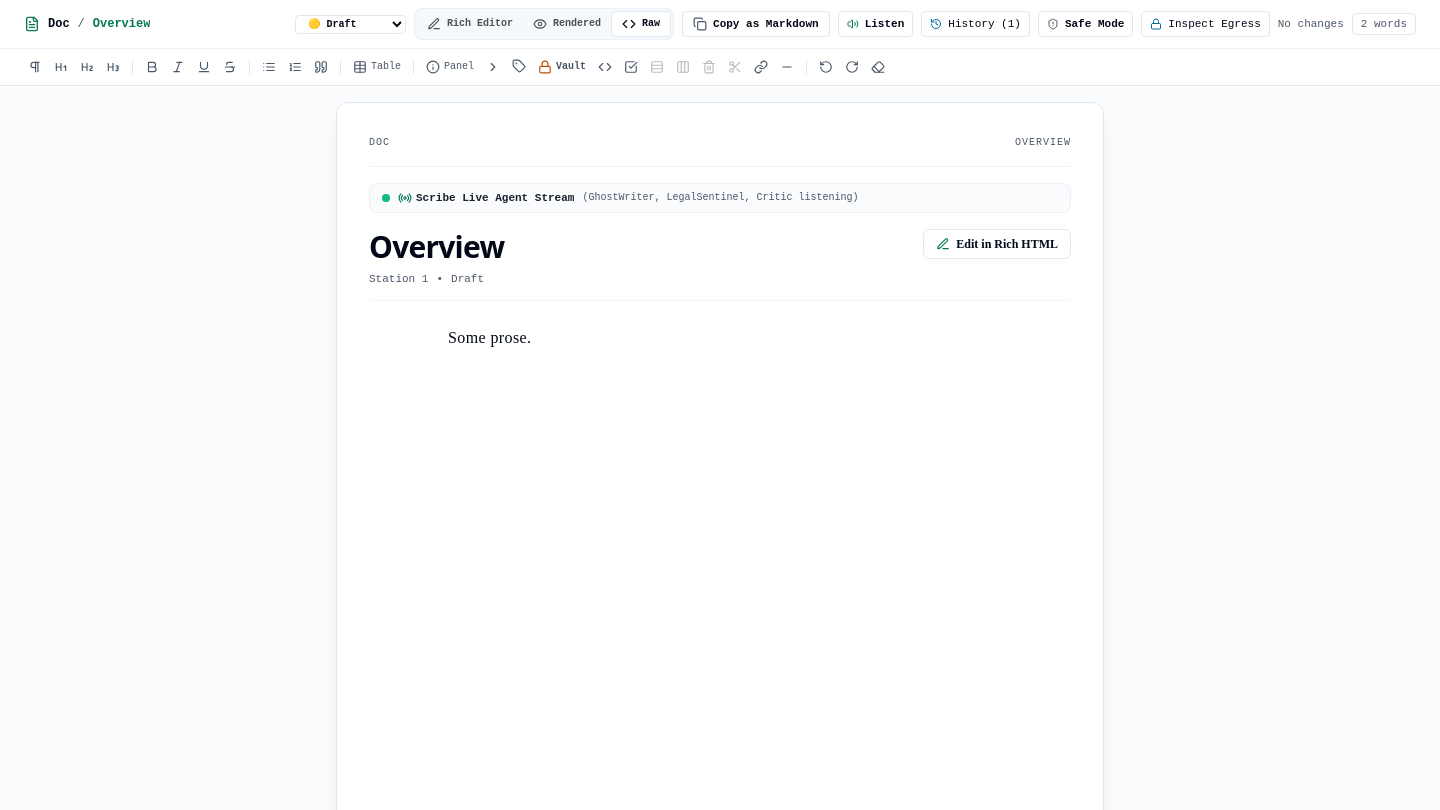
Scenario: Insert Link › refuses a javascript: address instead of linking it
Step 1. Press the mouse on the button named "Insert Link" → x=761, y=67, box [750,56,772,78]
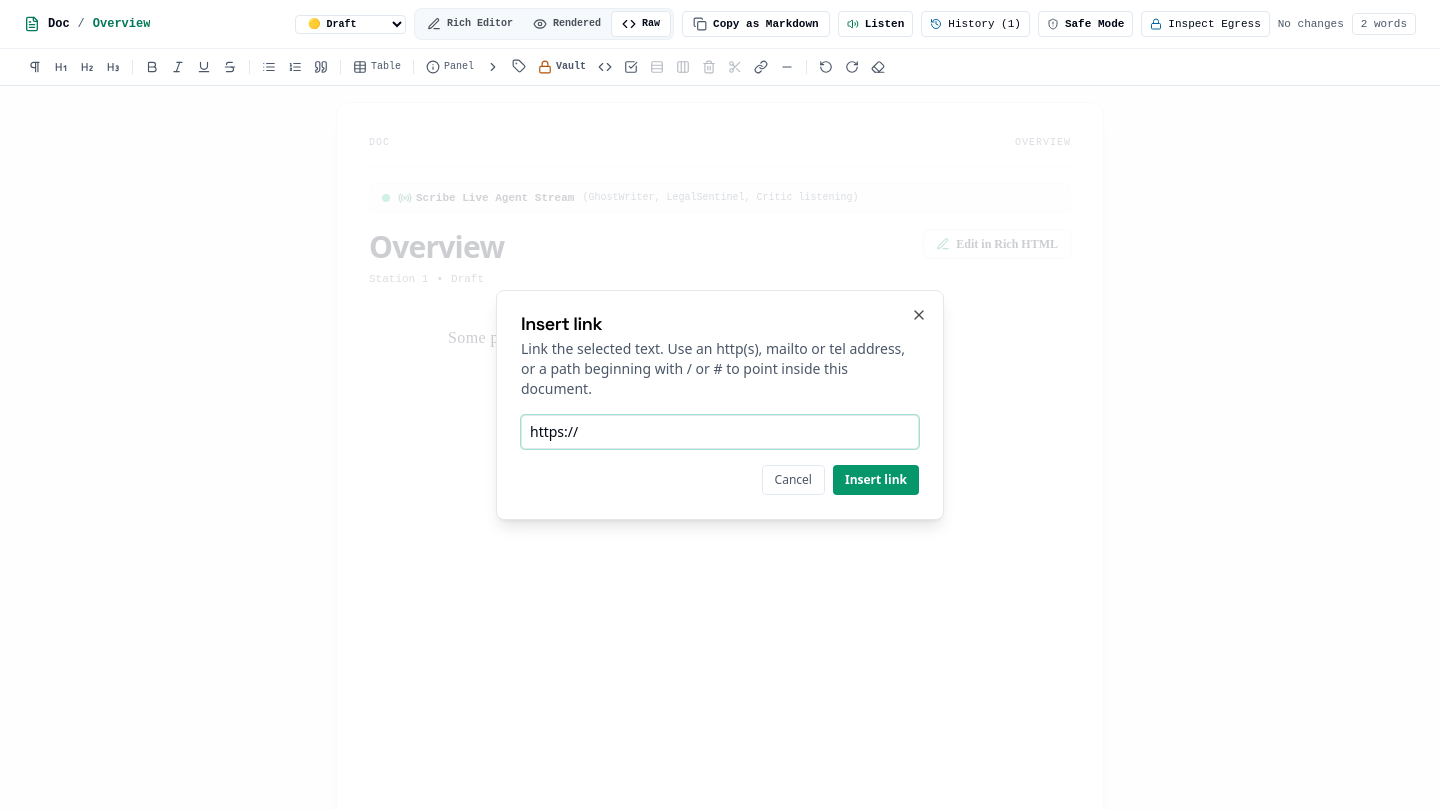
Expected: the dialog with test id "scribe-link-dialog" is shown, [496,290,944,520]
Step 2. Replace the text in the field with test id "scribe-link-input" with "javascript:alert(1)" → x=720, y=432, box [521,415,919,449]
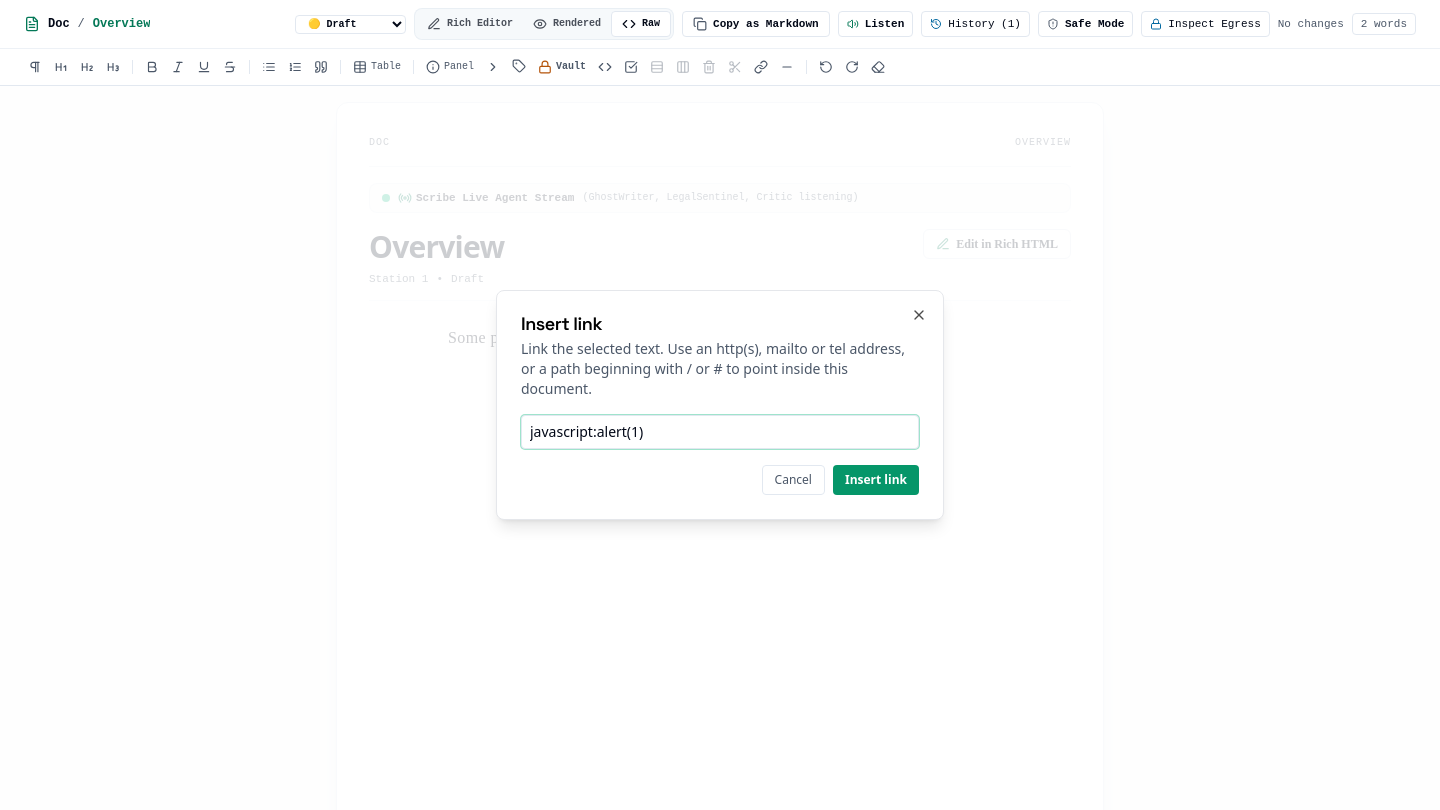
Step 3. Submit the form with test id "scribe-link-input", box [521,415,919,495]
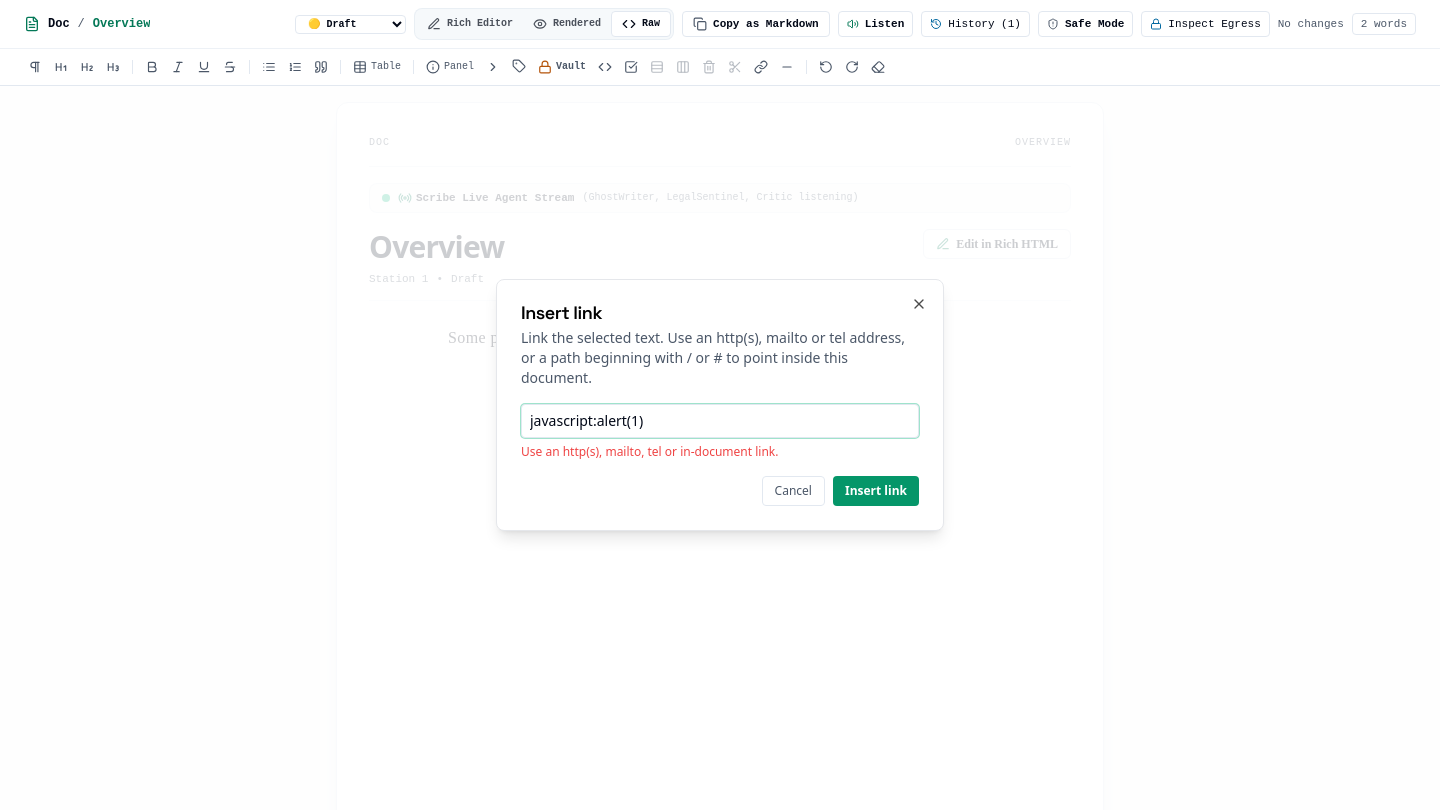
Expected: the dialog with test id "scribe-link-dialog" is shown, [496,279,944,531]
Expected: the message "Use an http(s), mailto, tel or in-document link." is shown, [521,443,778,460]
